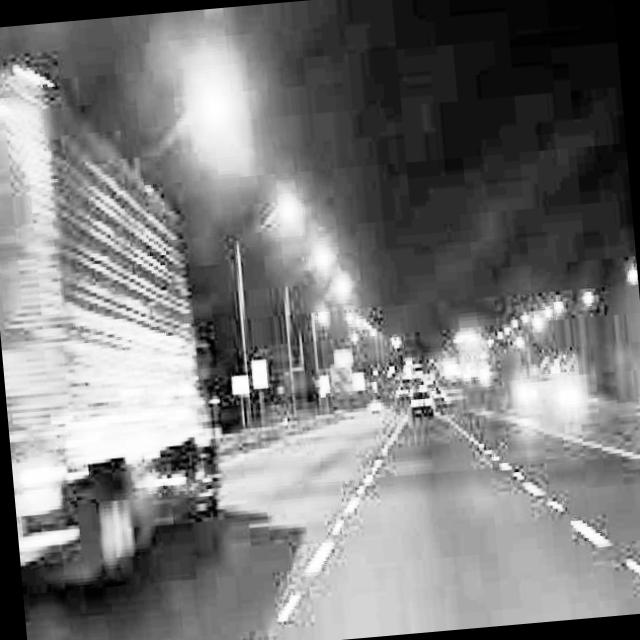Truck: (0, 35, 234, 590)
